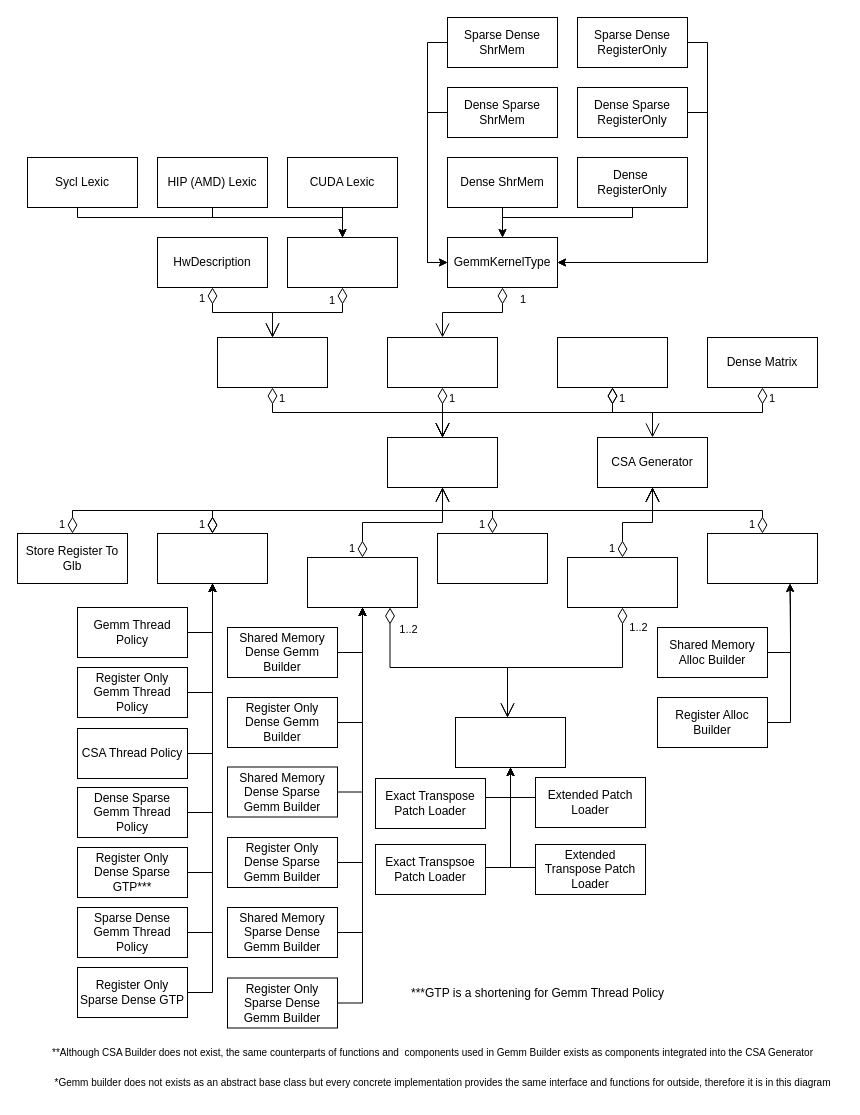
Some shapes in this 860 by 1115 pixel diagram are drawn without their labels. Here are the shapes that lost their labels. From the top down, the box of each, then its label:
(286, 236, 398, 288): Lexicon
(216, 336, 328, 388): VM
(386, 336, 498, 388): GemmKernels Factory
(556, 336, 668, 388): Addressing Type
(386, 436, 498, 488): Gemm Generator
(156, 532, 268, 584): «interface» Thread Policy
(436, 532, 548, 584): Element Pointer Builder
(706, 532, 818, 584): «interface» Allocator Builder
(306, 556, 418, 608): «interface» Gemm Builder*
(566, 556, 678, 608): CSA Builder**
(454, 716, 566, 768): «interface» Loader Factory
